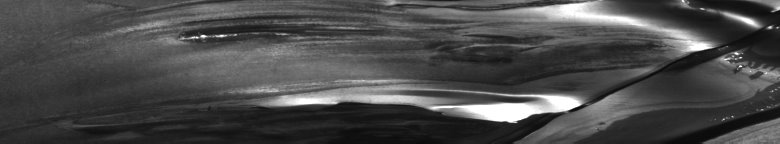ke: (73, 4, 776, 136)
